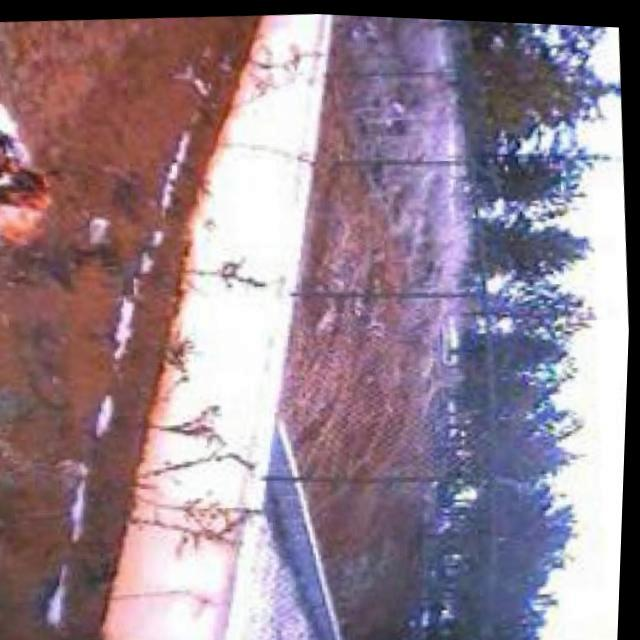fire: (0, 118, 60, 254)
